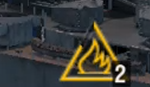2fire: (57, 49, 130, 86)
